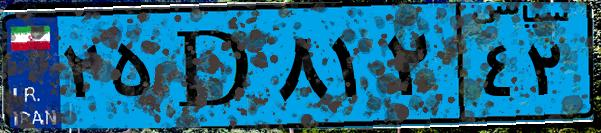1: (330, 28, 385, 110)
2: (385, 28, 445, 110), (57, 26, 110, 100), (525, 38, 570, 115)
4: (475, 38, 525, 113)
5: (110, 28, 158, 98)
8: (270, 28, 330, 110)
D: (158, 12, 270, 120)
